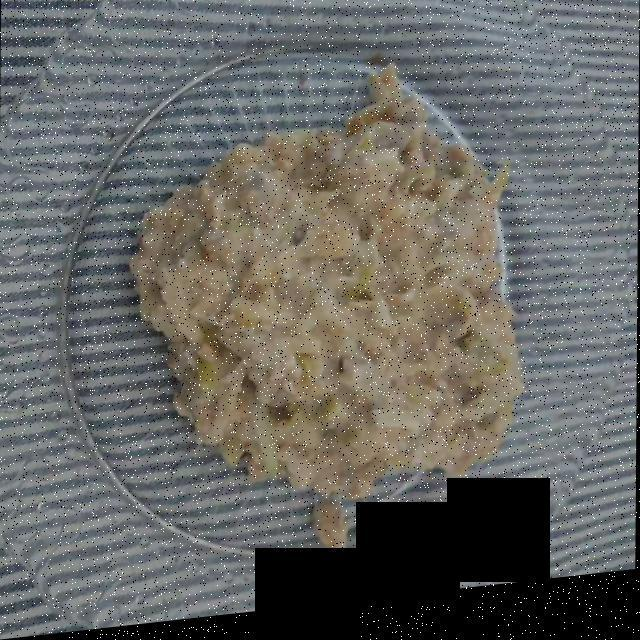porridge: (142, 76, 515, 547)
